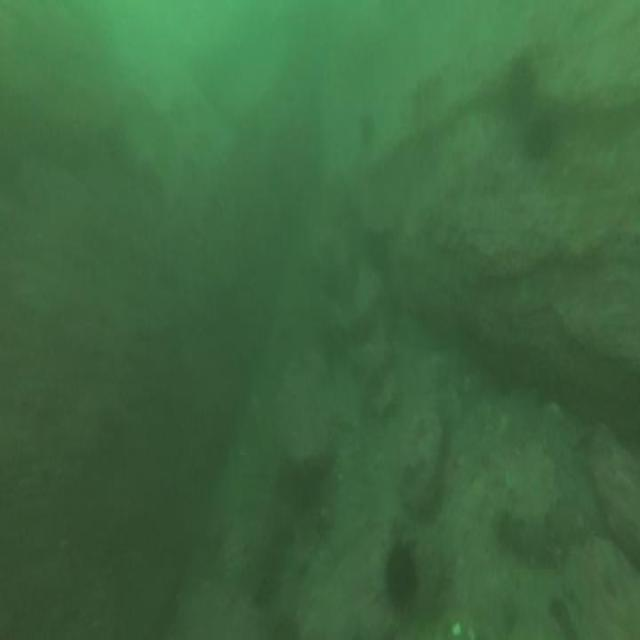echinus: (379, 534, 422, 616), (501, 56, 539, 126), (522, 108, 560, 168), (355, 103, 377, 156)
holothurian: (495, 498, 568, 575), (409, 65, 448, 114)
